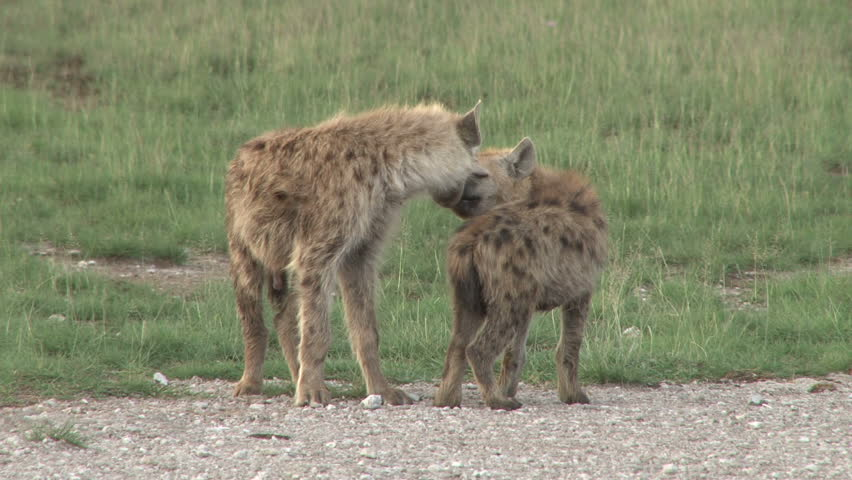hyena: (226, 95, 492, 411), (434, 124, 618, 423)
